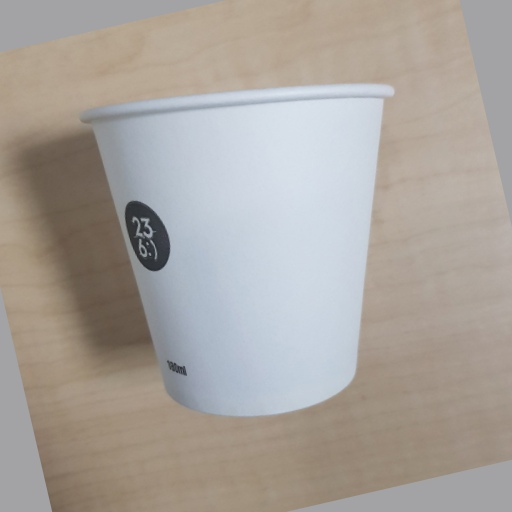Paper_1: (79, 80, 395, 416)
